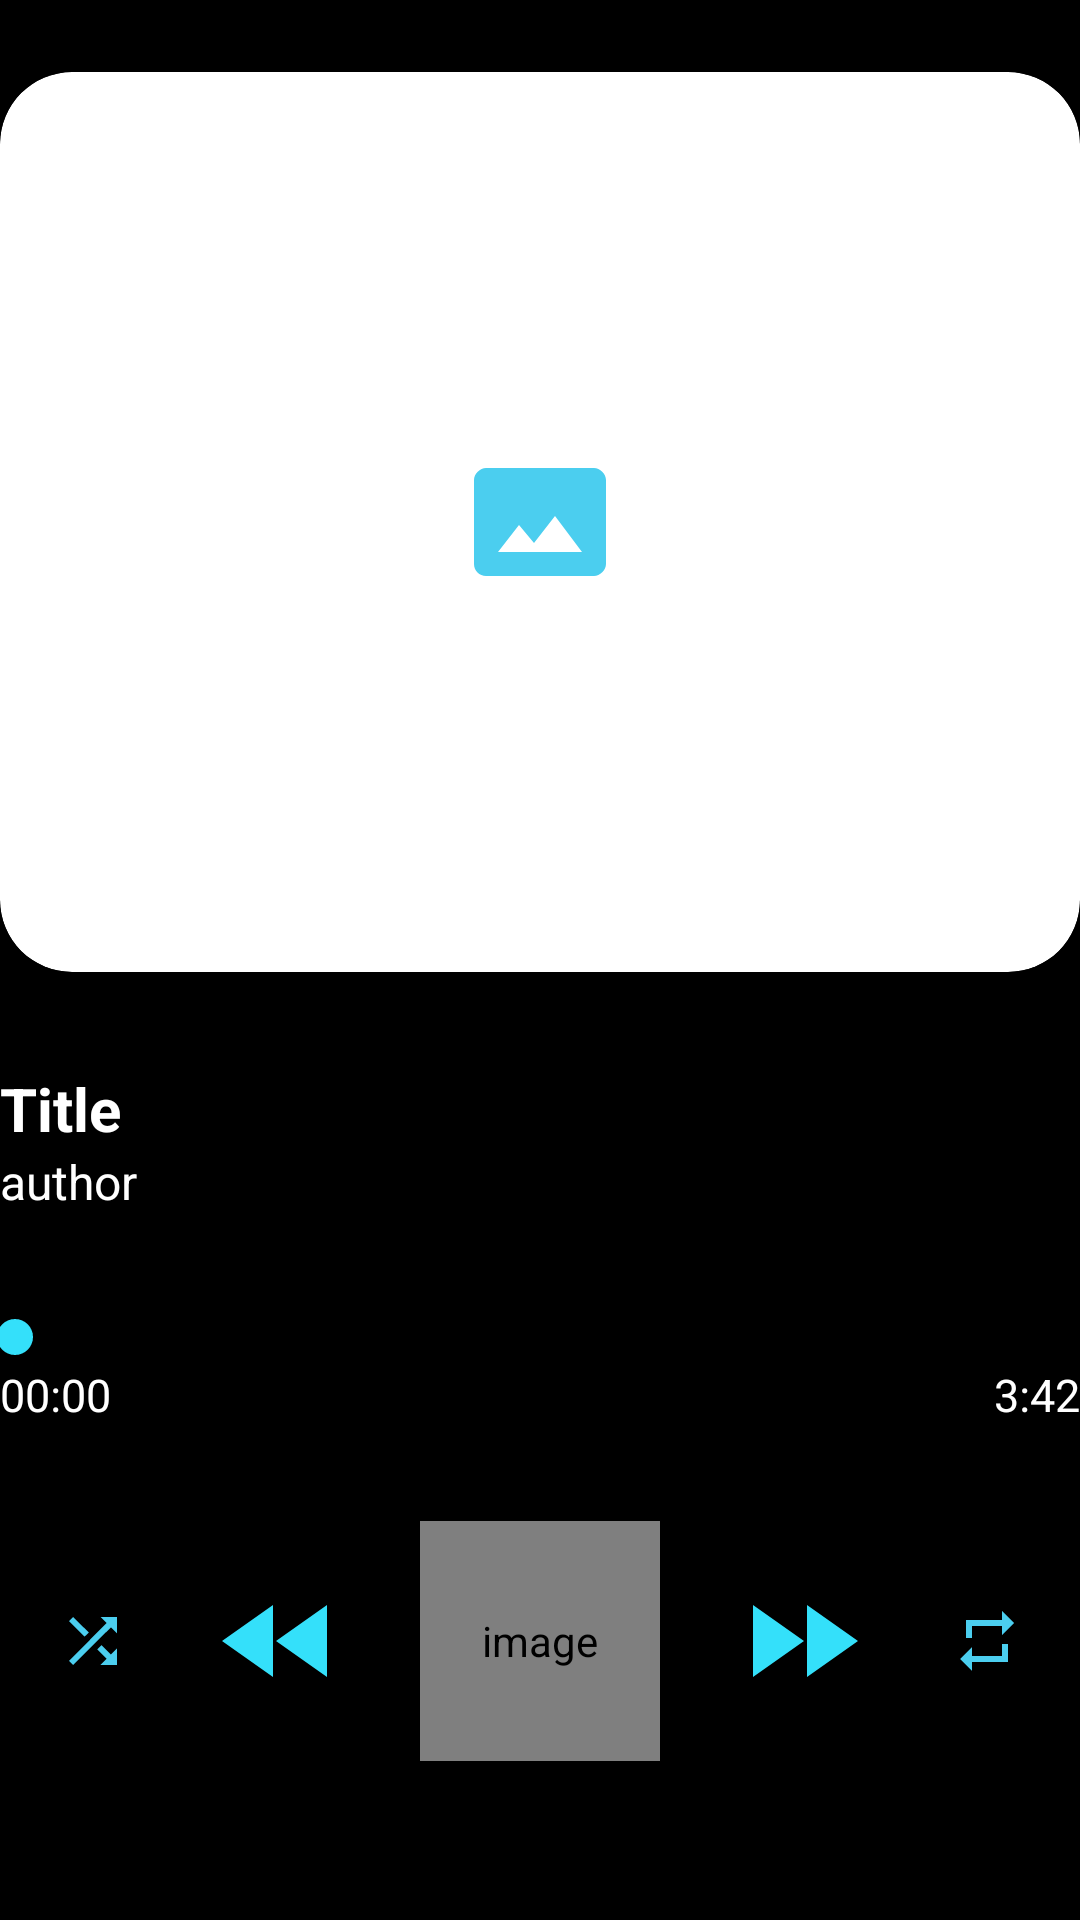

Where to tap for icons on this 1080×1920 app screen, as (x=x, y=y):
fast forward: (x=805, y=1641)
fast rewind: (x=274, y=1641)
repeat: (x=987, y=1641)
shuffle: (x=93, y=1641)
